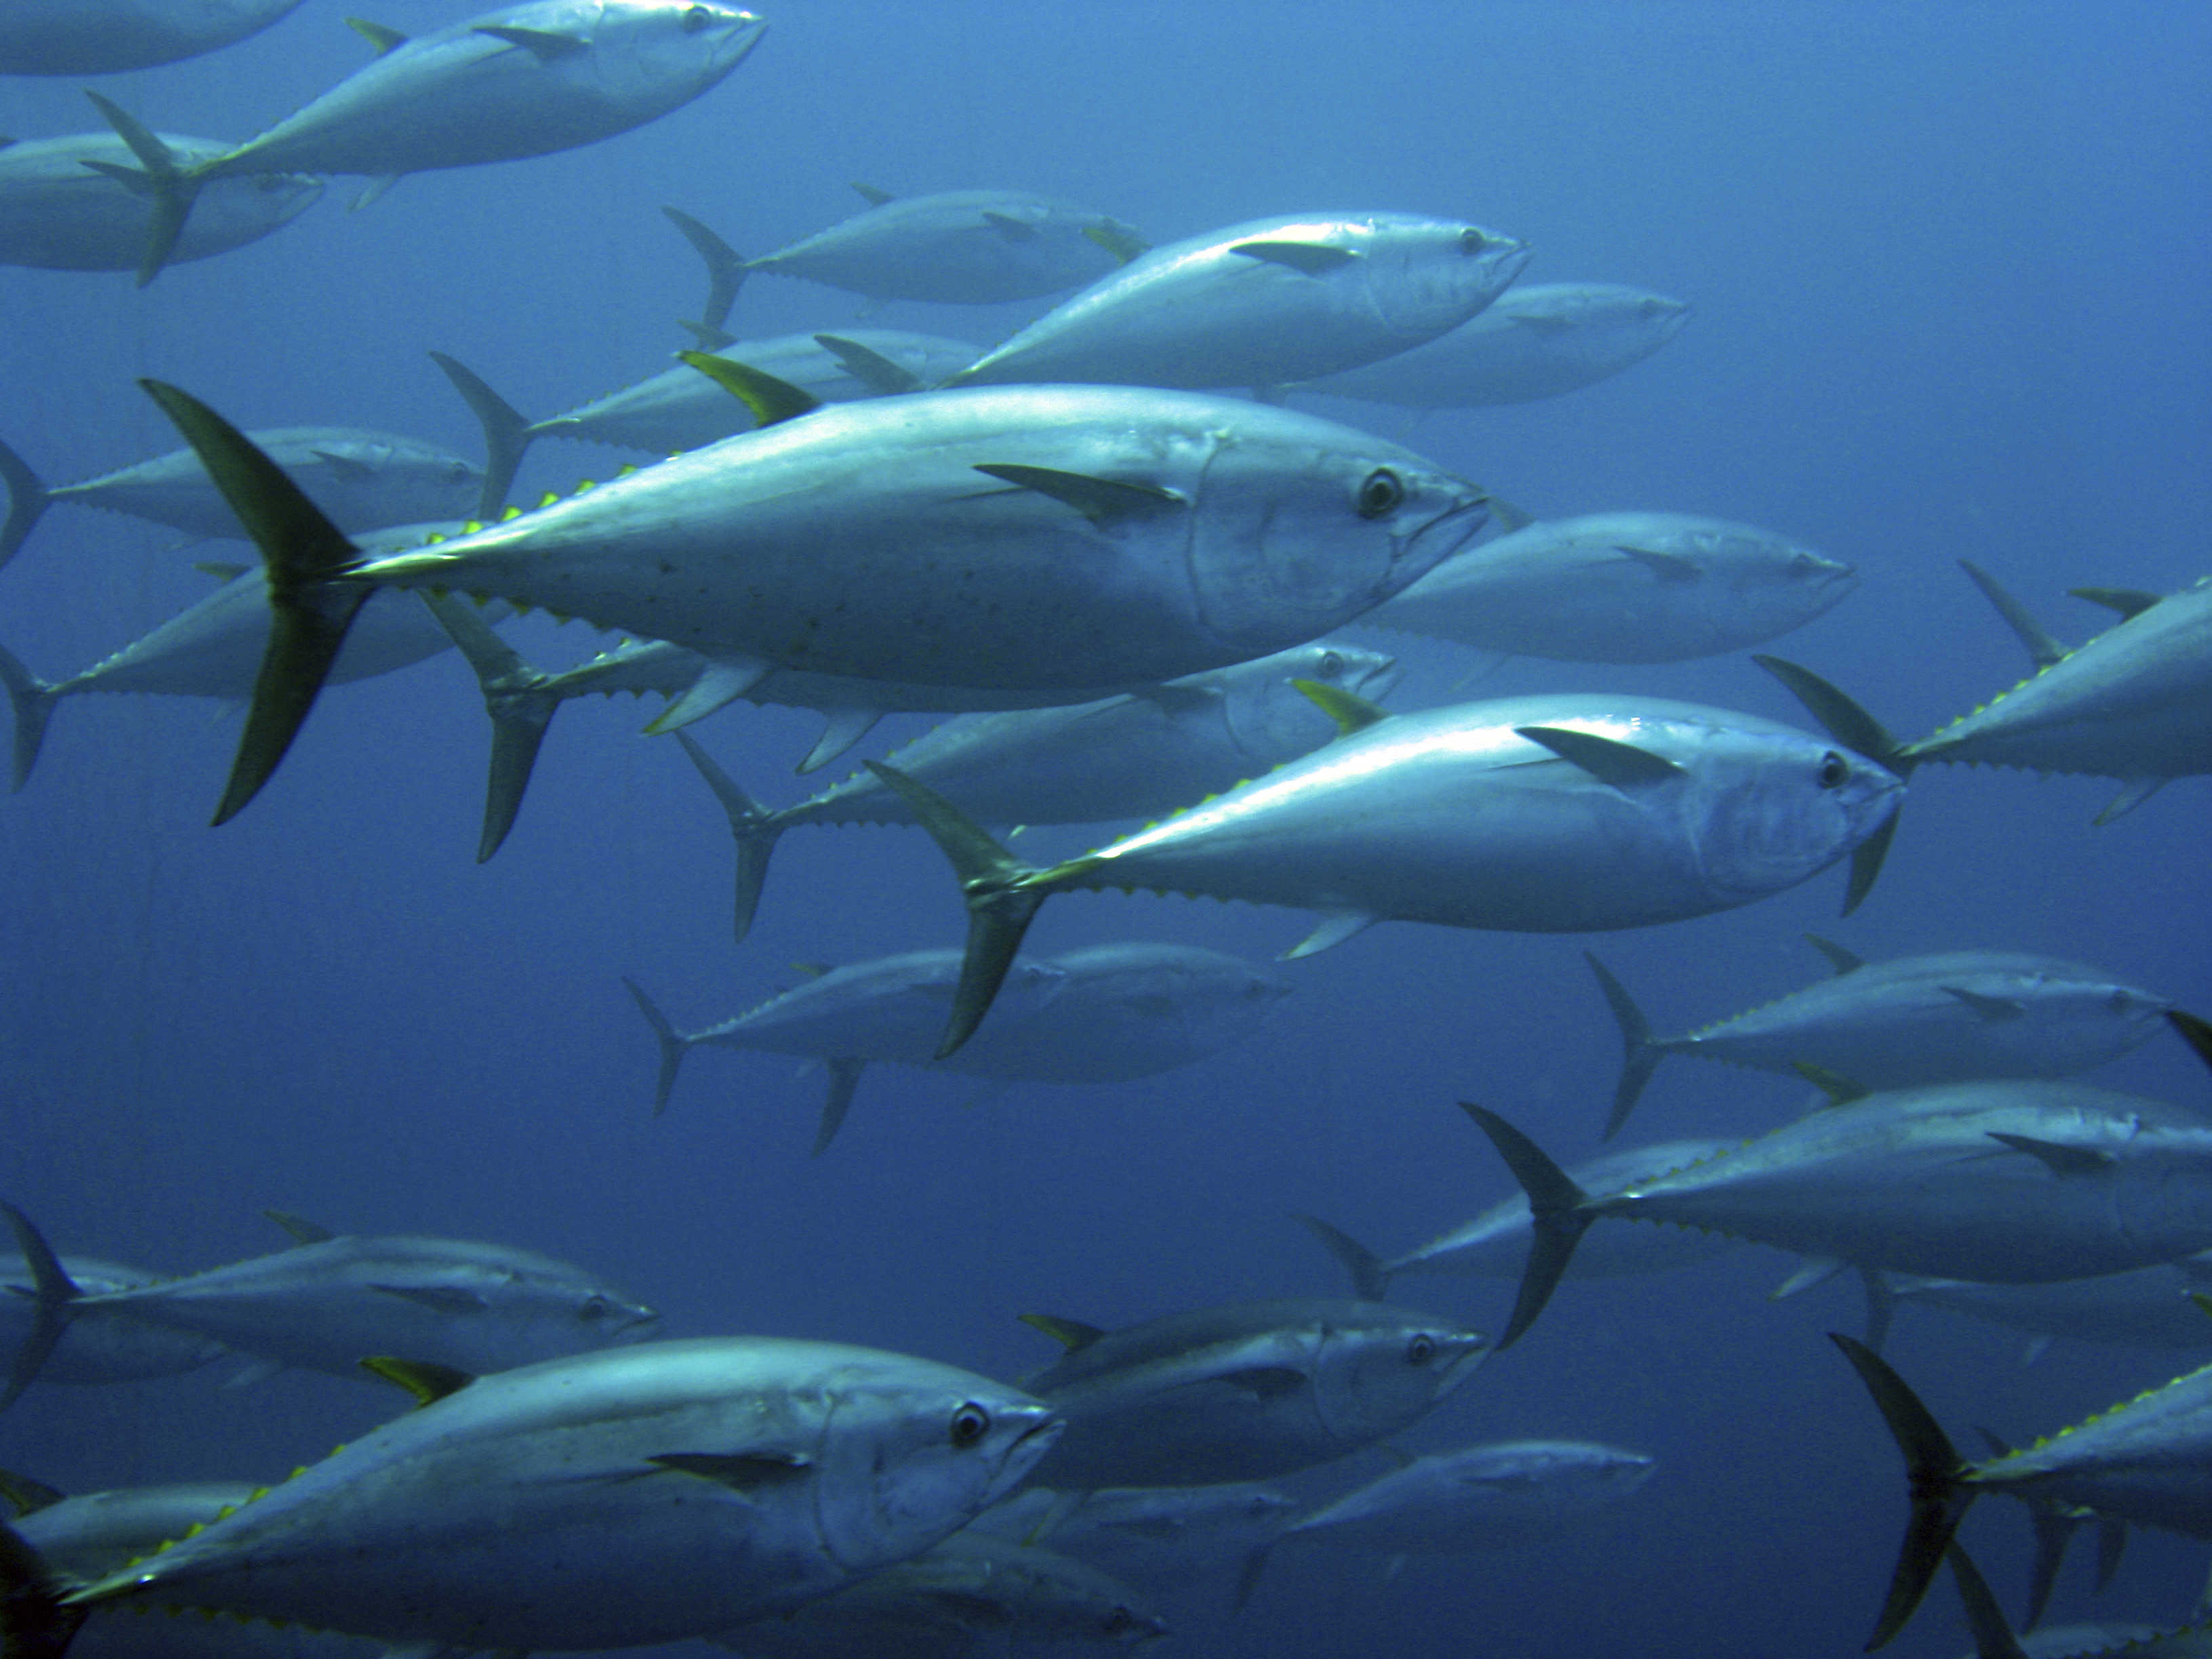Bluefina Tuna: (103, 375, 1508, 845), (864, 676, 1928, 1066), (0, 1305, 1125, 1649), (857, 193, 1559, 404), (1038, 1290, 1494, 1507), (1404, 498, 1865, 673)
